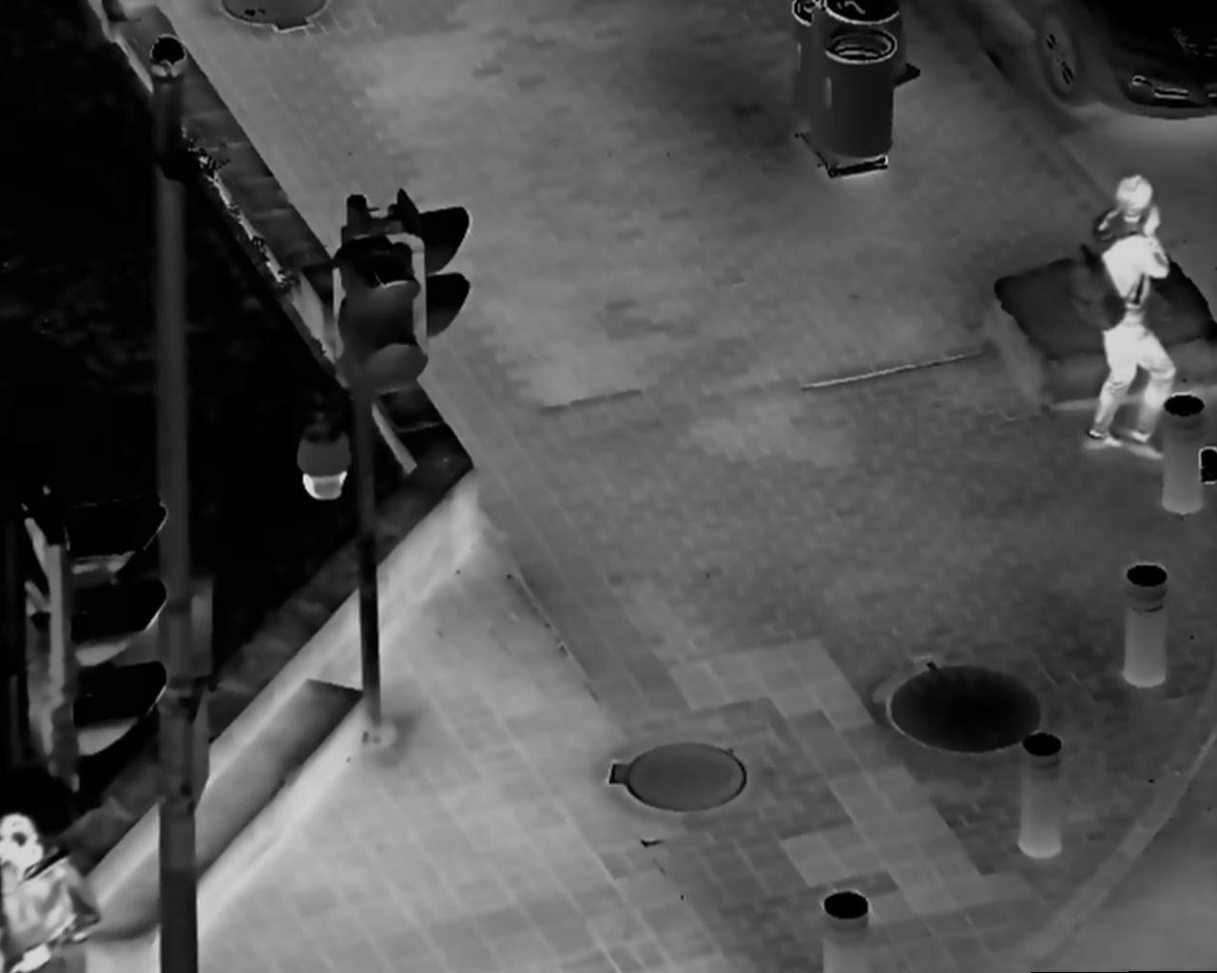person: (1069, 160, 1184, 470)
